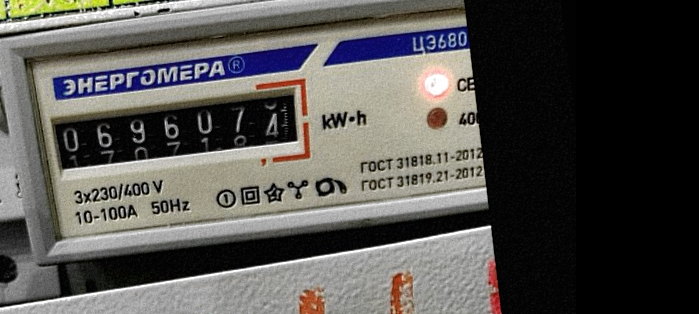0: (59, 125, 83, 155), (195, 106, 216, 137), (95, 121, 115, 149)
4: (262, 111, 282, 141)
6: (160, 110, 181, 142)
7: (227, 103, 249, 134)
9: (127, 116, 148, 146)
screen: (35, 74, 317, 190)
